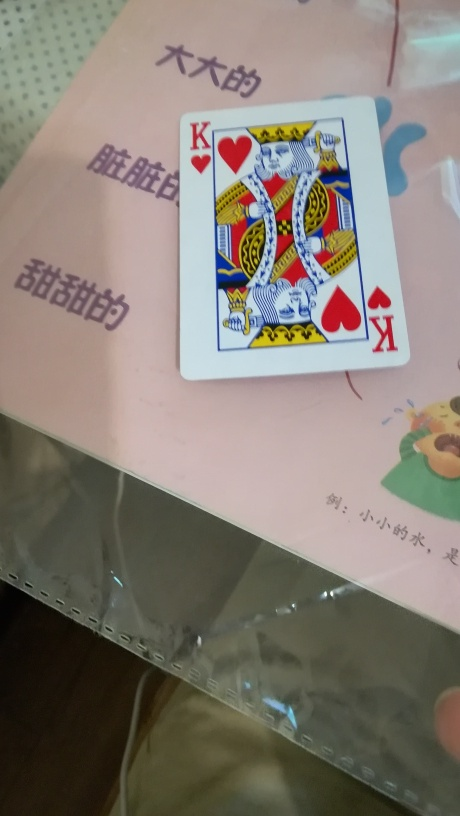hx k: (177, 96, 405, 378)
